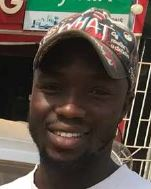without_facemask: (29, 101, 97, 165)
